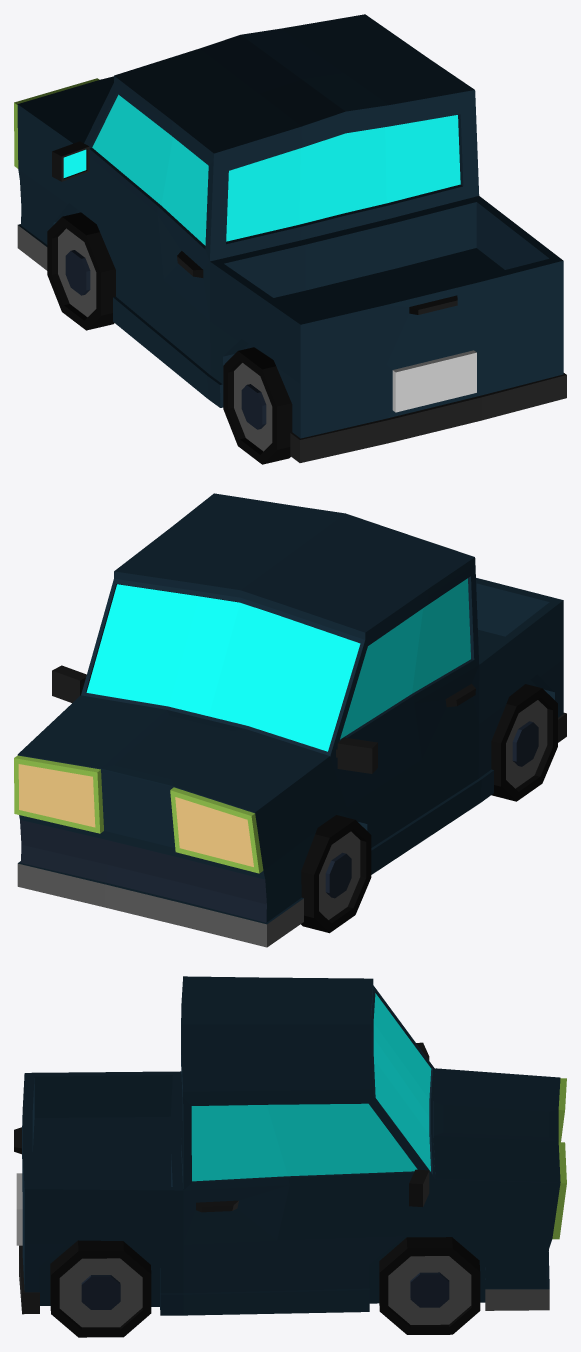
The model's file is Toy Pickup Truck.fbx.
3 renders of one model, top to bottom at view 1: azimuth 30°, elevation 25°; view 2: azimuth 150°, elevation 25°; view 3: azimuth 270°, elevation 25°, orthographic. The views are drawn at different scales.
Parts seen in each view (by area): view 1: Node 0; view 2: Node 0; view 3: Node 0.
Part boxes in pixels (x1,y1,x2,y2): Node 0: (14,14,566,464); Node 0: (14,493,566,947); Node 0: (14,976,566,1337).
Size of the model in its own units: 0.373 by 0.1871 by 0.226.
